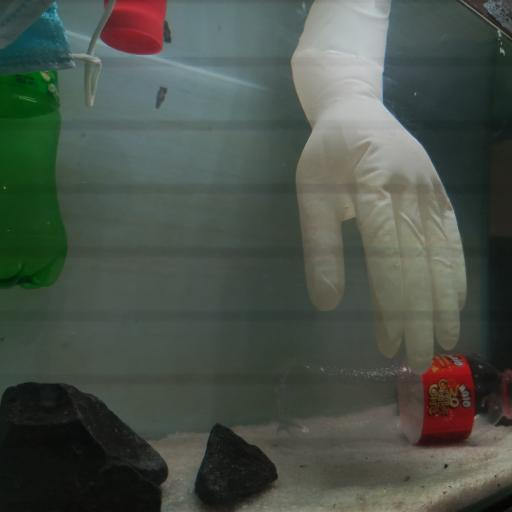bottle_cap: (101, 10, 165, 54)
glove: (291, 1, 468, 380)
mask: (0, 0, 119, 107)
plastic_bottle: (271, 355, 512, 445), (2, 56, 68, 293)
